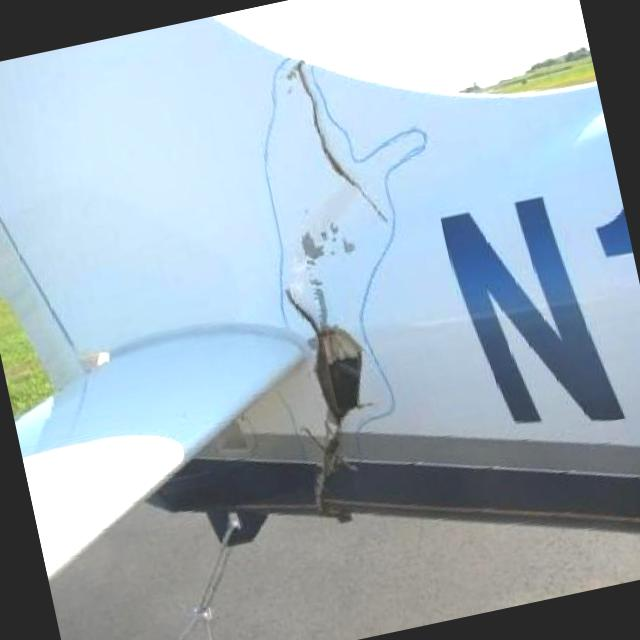crack: (272, 42, 386, 222)
